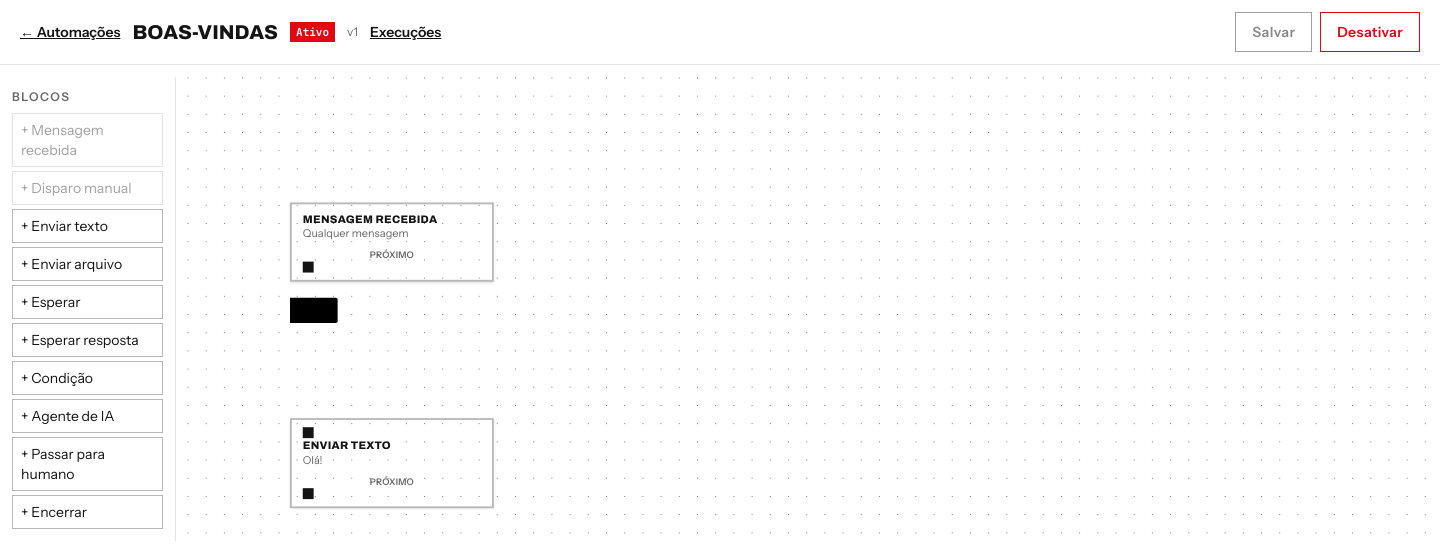
Test: FlowEditor › deactivates an active flow
This screenshot has width=1452, height=558.
Click the button "Desativar" at (1370, 32), box x1=1320 y1=12 x2=1420 y2=52
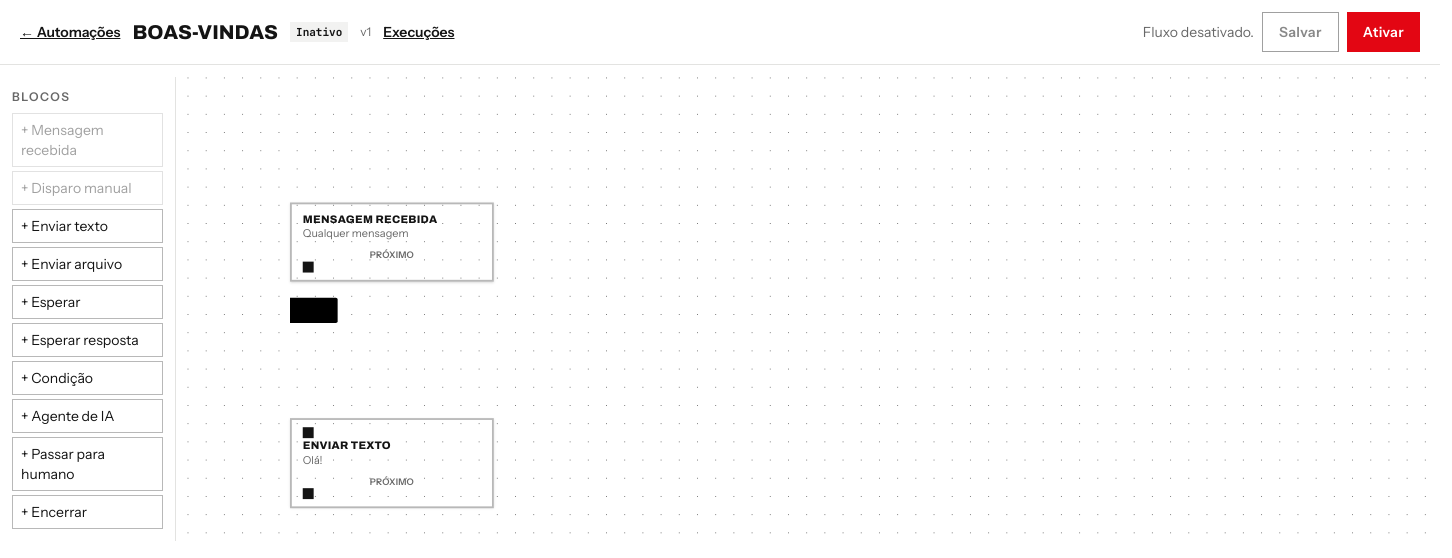
Now the text "Inativo" is shown, box x1=290 y1=22 x2=348 y2=42
